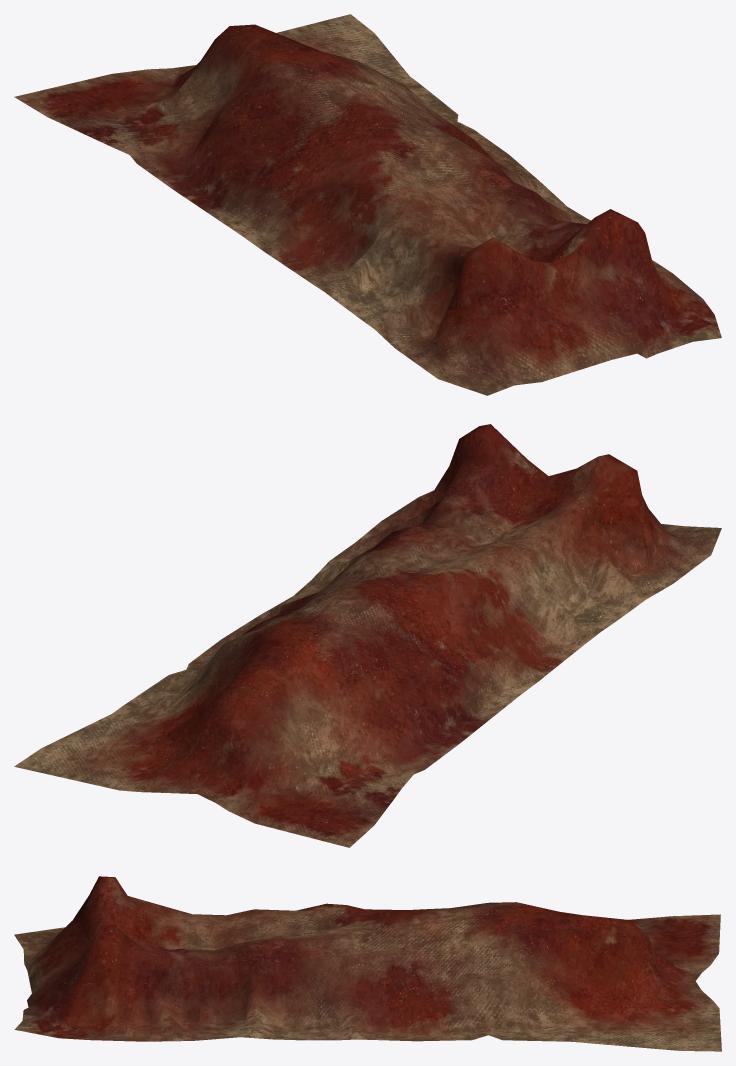
3 views of the same model, one above another, from view 1: azimuth 30°, elevation 25°; view 2: azimuth 150°, elevation 25°; view 3: azimuth 270°, elevation 25° (orthographic). The views are drawn at different scales.
Parts seen in each view (by area): view 1: muerto_muerto_0; view 2: muerto_muerto_0; view 3: muerto_muerto_0.
Boxes of the visible parts, left/top/right/bottom form: muerto_muerto_0: left=14, top=14, right=721, bottom=395; muerto_muerto_0: left=14, top=424, right=721, bottom=847; muerto_muerto_0: left=14, top=876, right=721, bottom=1051.
Size of the model in its own units: 0.9659 by 0.3015 by 2.11.
1 material, 1 textured.
